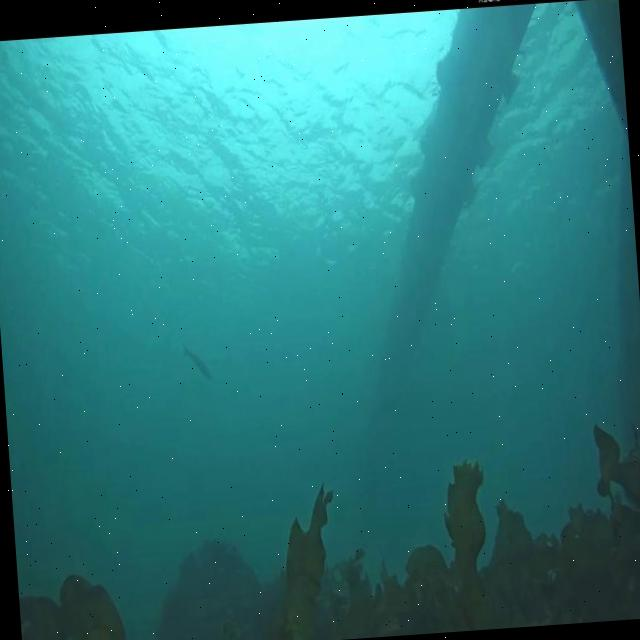fish: (182, 341, 212, 384)
